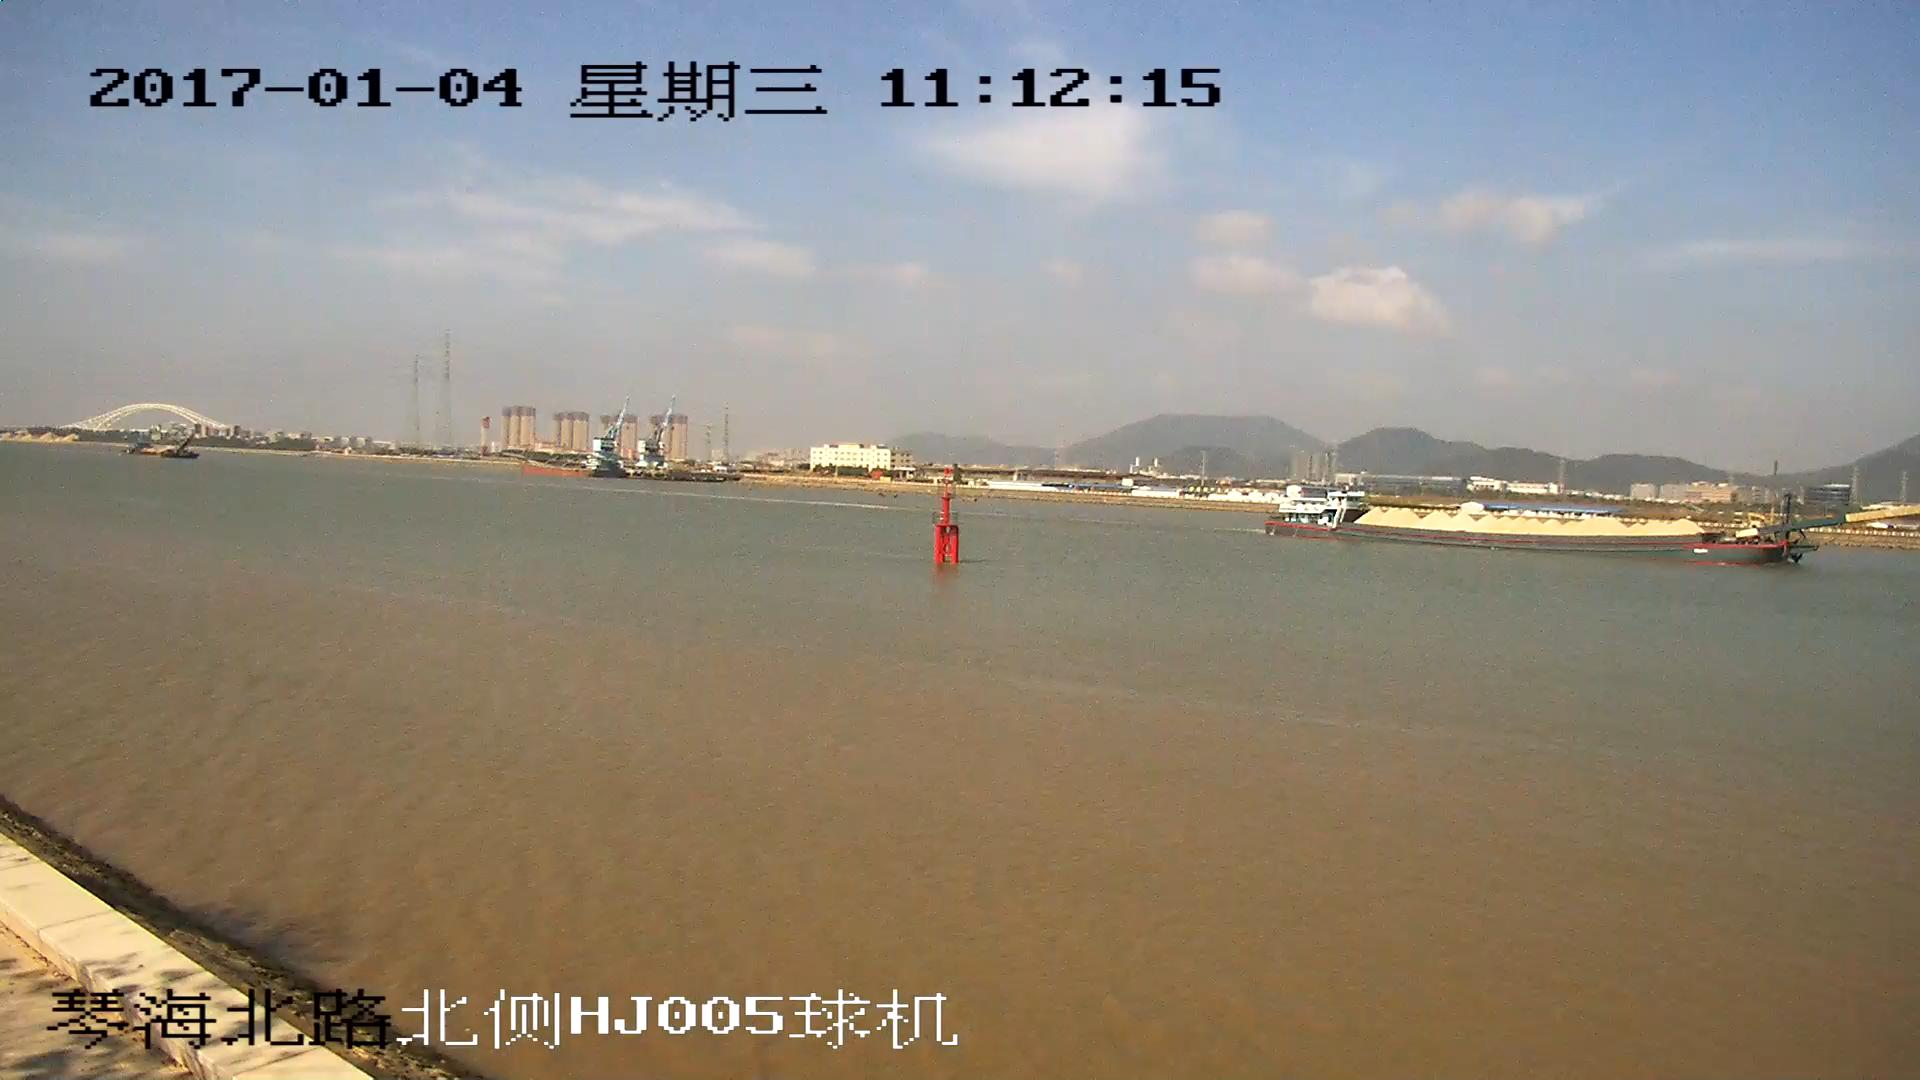ore carrier: (1268, 486, 1920, 564)
